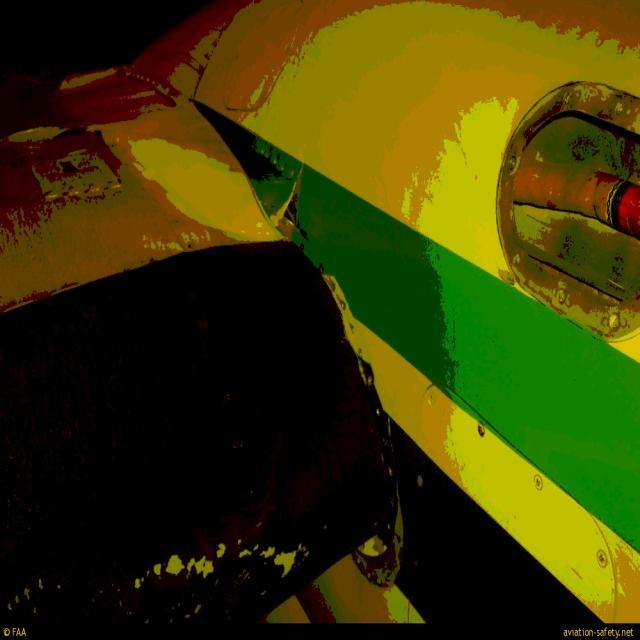crack: (270, 174, 304, 228)
